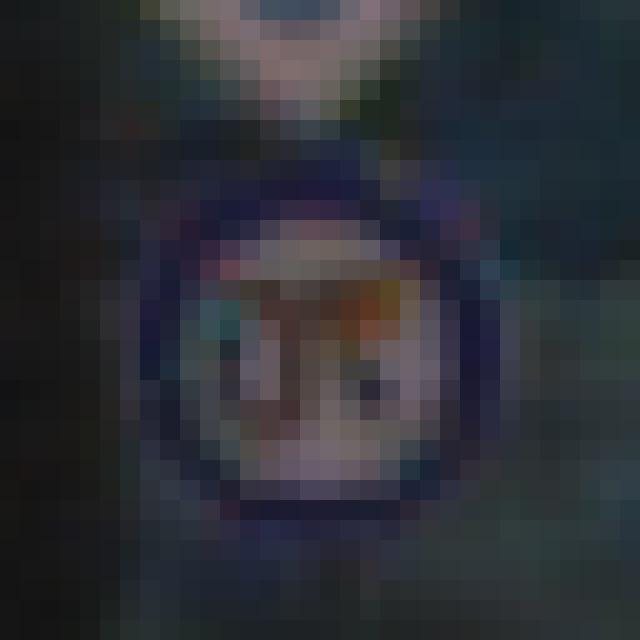SPEED LIMIT 70: (150, 193, 496, 520)
